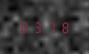eight: (57, 20, 69, 34)
seven: (44, 20, 56, 34)
three: (31, 19, 43, 33)
zero: (18, 19, 30, 33)
